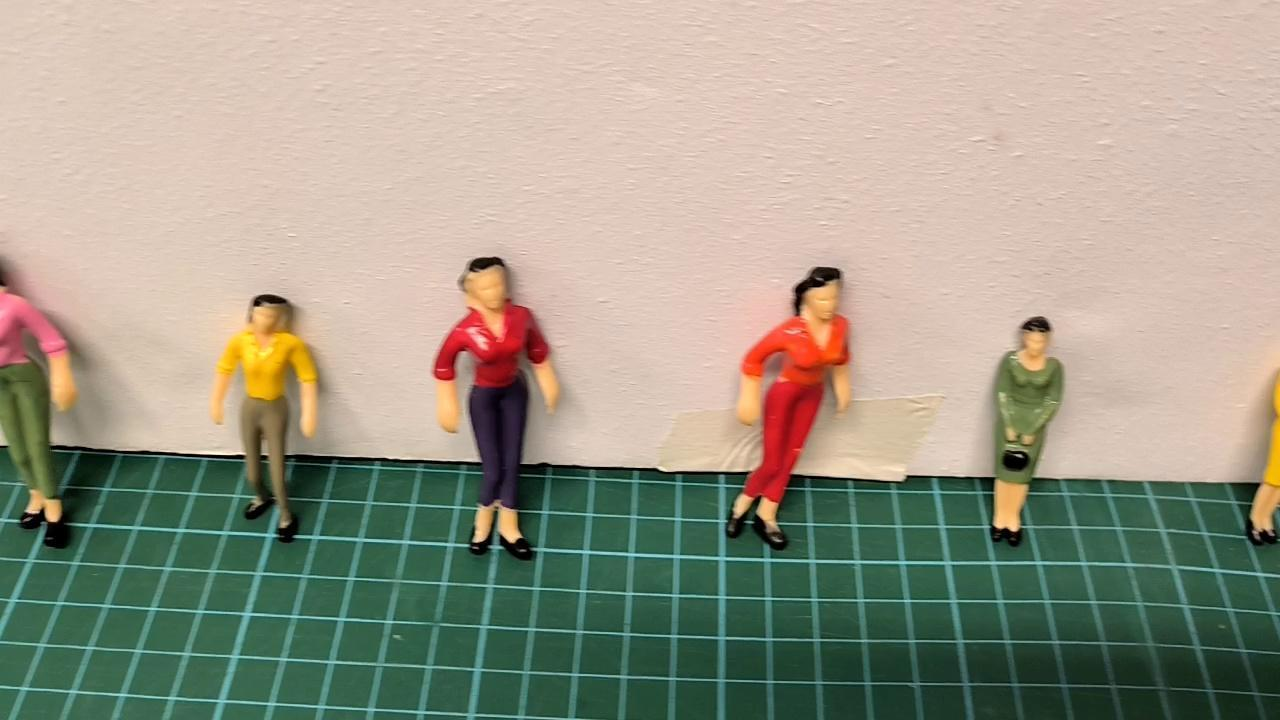human: (716, 243, 856, 563), (430, 255, 569, 564), (208, 280, 337, 573), (978, 302, 1074, 556)
